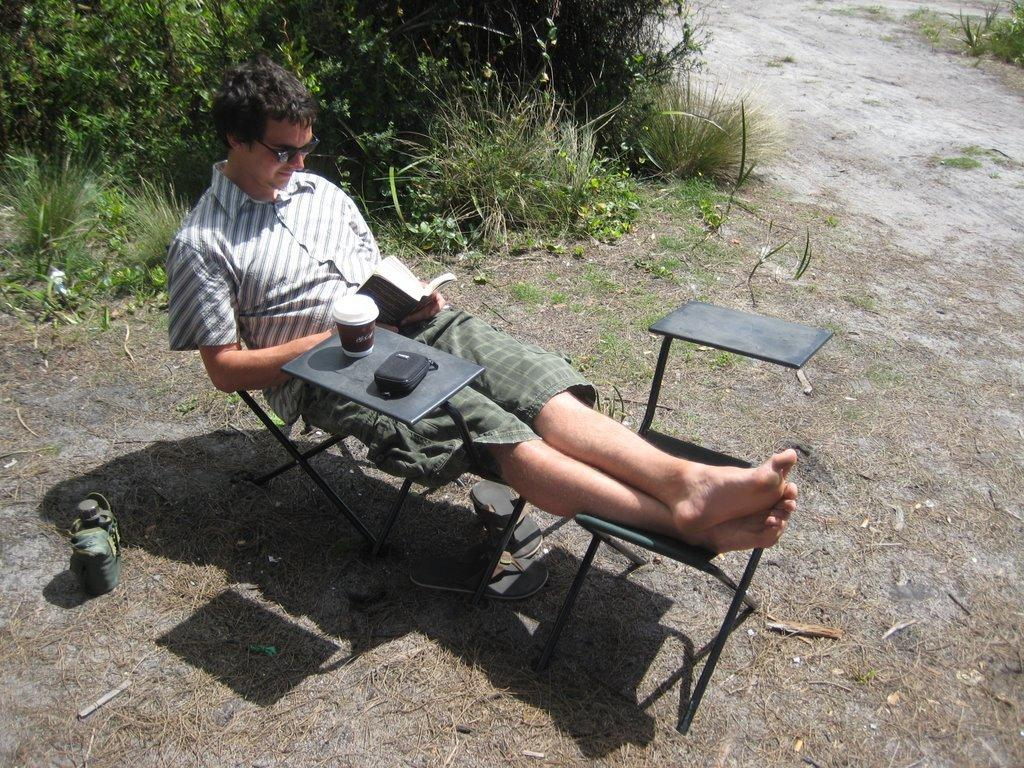Chair: (536, 301, 836, 734), (233, 381, 472, 550)
